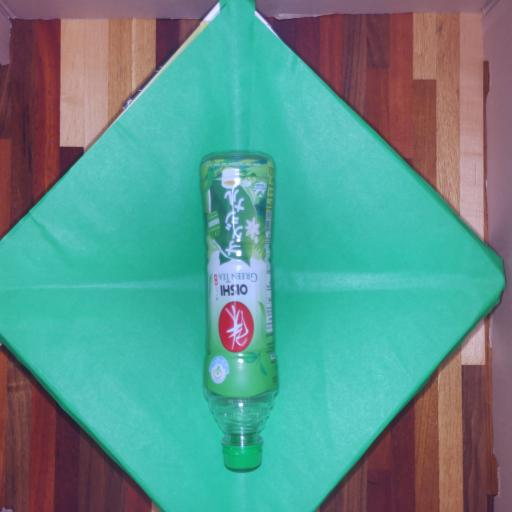bottle: (195, 145, 289, 473)
